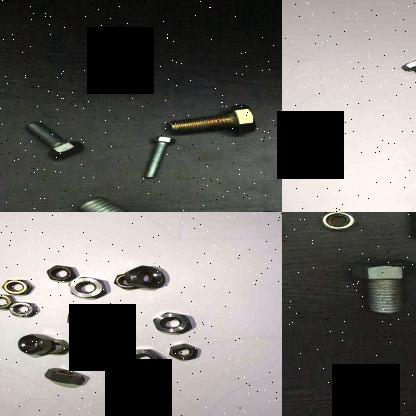Bolts: (347, 254, 416, 316), (162, 103, 271, 137), (18, 115, 90, 166), (135, 132, 178, 182), (73, 193, 174, 212), (396, 56, 416, 89)
NUTS: (148, 310, 196, 338), (65, 272, 110, 300), (124, 348, 167, 374), (61, 310, 115, 330), (41, 366, 92, 386), (124, 265, 170, 287), (13, 332, 54, 356), (317, 212, 356, 234), (165, 339, 199, 364), (42, 260, 76, 283), (7, 296, 39, 318), (39, 338, 71, 360), (114, 364, 146, 386), (0, 278, 35, 296), (108, 273, 138, 292), (0, 294, 13, 310)
